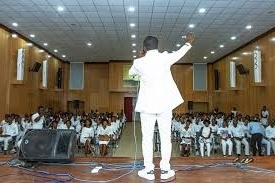not_fallen: (131, 33, 188, 183), (0, 117, 20, 151), (248, 119, 263, 154), (196, 125, 214, 154), (96, 122, 111, 155), (229, 122, 244, 155), (81, 120, 94, 155), (30, 106, 48, 130), (265, 121, 275, 156), (199, 112, 209, 121), (54, 116, 62, 127), (69, 115, 76, 127), (84, 112, 98, 117), (216, 112, 224, 120), (105, 114, 115, 119)
